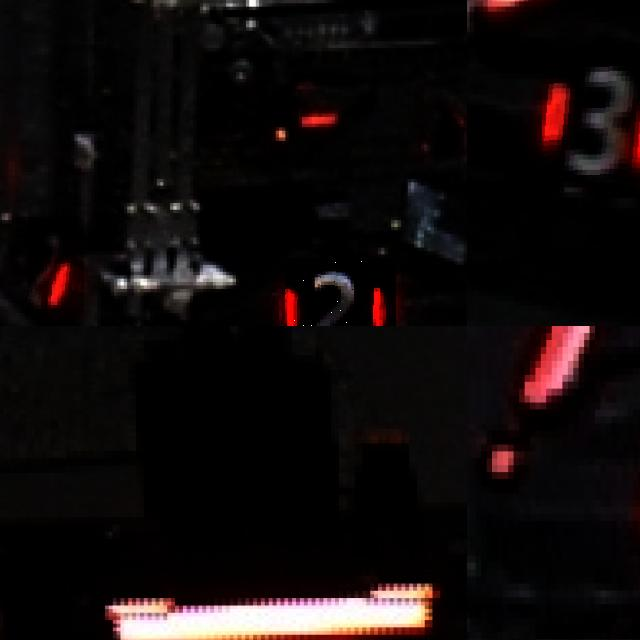R2: (285, 257, 397, 326), (28, 217, 84, 313)
R3: (541, 58, 640, 182)
